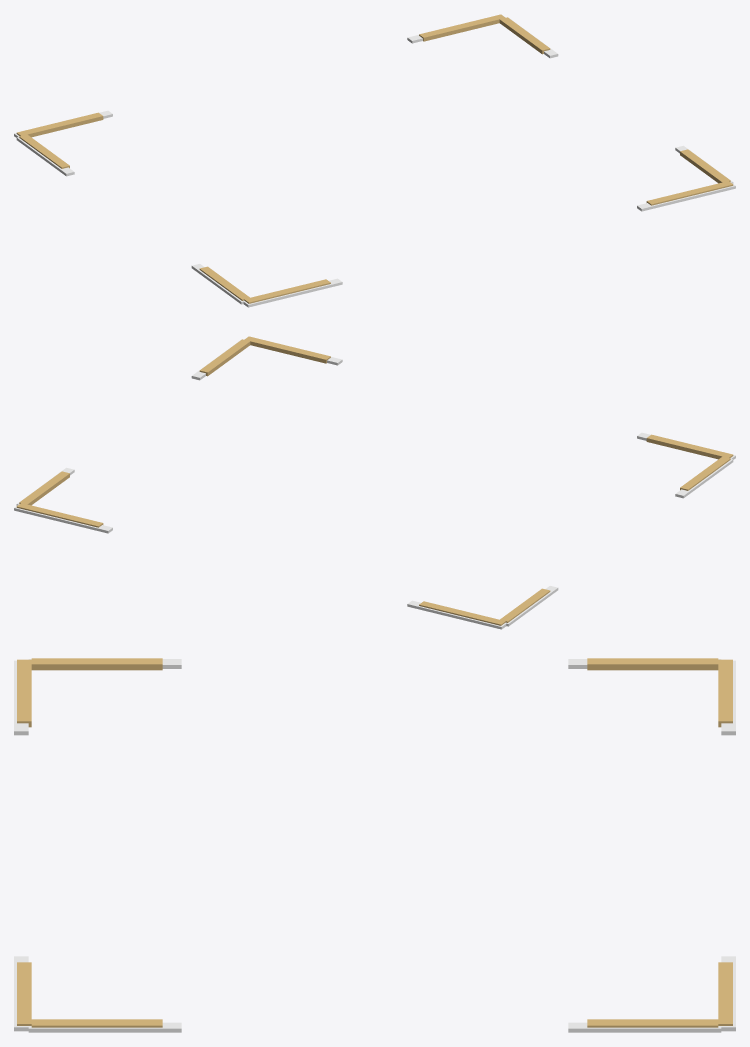
The model's file is FloorCornerMarker.glb.
3 views of the same model, one above another, from view 1: azimuth 30°, elevation 25°; view 2: azimuth 150°, elevation 25°; view 3: azimuth 270°, elevation 25° (orthographic). The views are drawn at different scales.
Parts seen in each view (by area): view 1: Glow, Body; view 2: Glow, Body; view 3: Glow, Body.
Part boxes in pixels (bbox=[...]): Glow: bbox=[16, 14, 733, 303]; Body: bbox=[14, 15, 735, 307]; Glow: bbox=[16, 336, 733, 625]; Body: bbox=[14, 337, 735, 629]; Glow: bbox=[17, 658, 732, 1027]; Body: bbox=[14, 659, 735, 1032].
Size of the model in its own units: 12 by 0.09 by 9.9.
